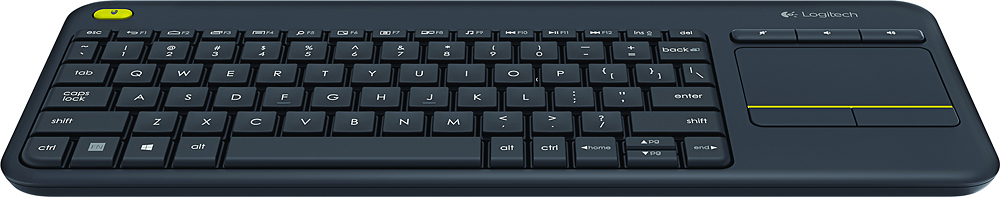logitech-keyboard-k400: (1, 1, 994, 194)
